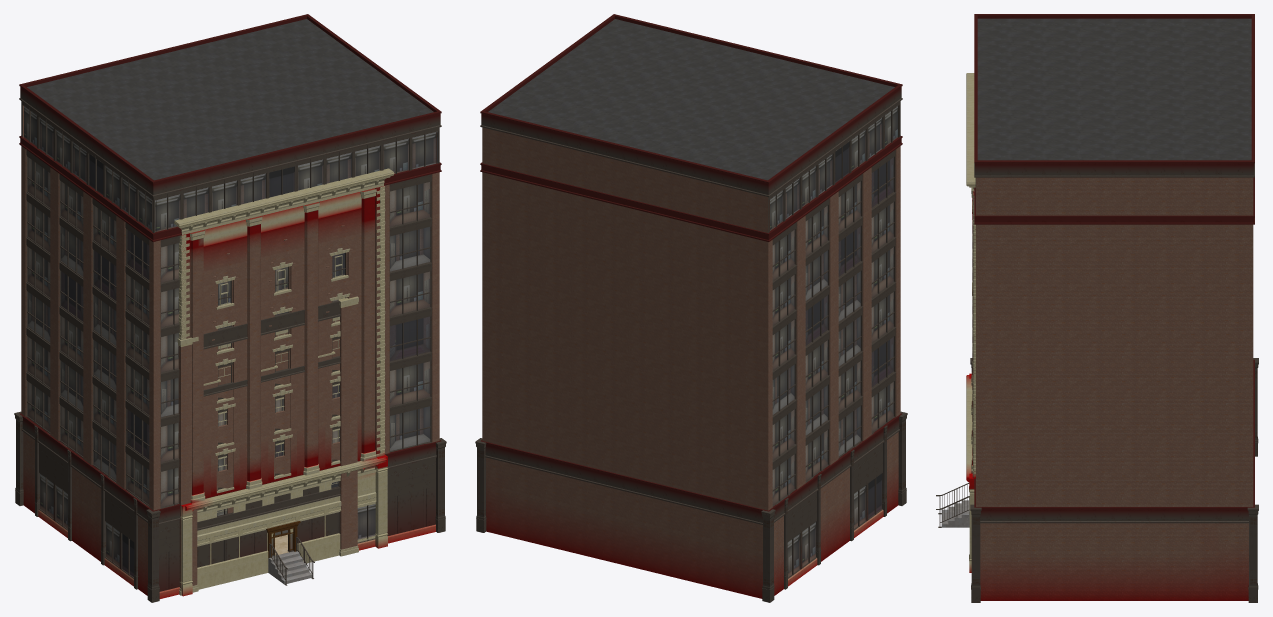
Rendered from downtown.glb.
3 renders of one model, left to right at view 1: azimuth 30°, elevation 25°; view 2: azimuth 150°, elevation 25°; view 3: azimuth 270°, elevation 25°, orthographic. The views are drawn at different scales.
Visible parts, largest first — view 1: Building_Large_2, Building_Medium_2.001, Building_Small_1; view 2: Building_Large_2; view 3: Building_Large_2, Building_Medium_2.001, Building_Small_1.
Boxes of the visible parts, x1,y1,x2,y2 form: Building_Large_2: (14,14,446,602); Building_Medium_2.001: (174,168,394,596); Building_Small_1: (177,296,358,595); Building_Large_2: (475,14,907,602); Building_Large_2: (970,14,1258,602); Building_Medium_2.001: (966,73,975,572); Building_Small_1: (936,200,972,527).
Bounding box in the file's own units: 20.64 × 28.01 × 18.63.
10 materials, 9 textured.
